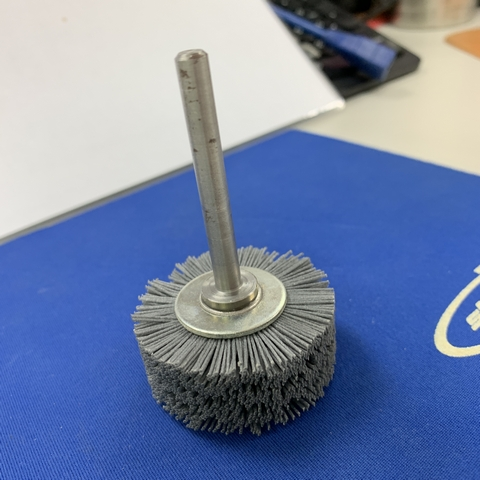Wheel Brush: (98, 87, 377, 434), (129, 50, 337, 437), (114, 124, 364, 440), (139, 48, 352, 415)
